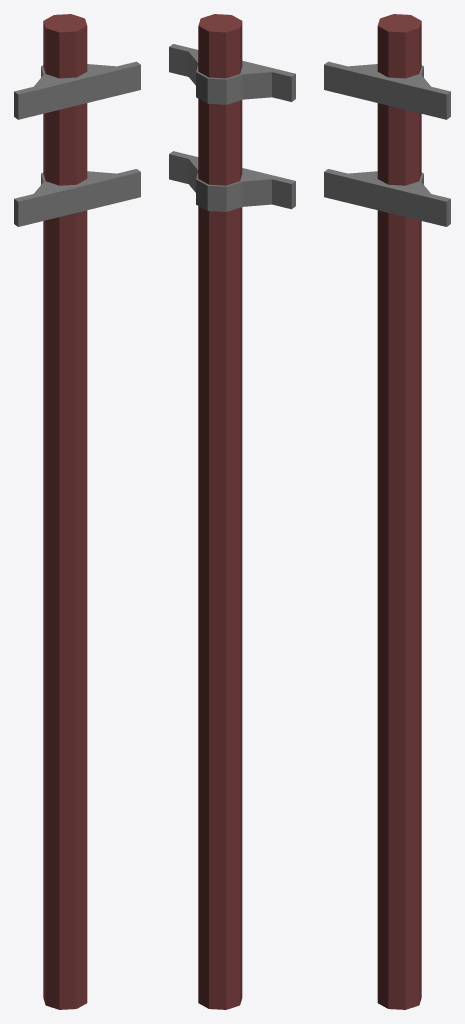
The model's file is SM_signpole.fbx.
3 views of the same model, side by side, from view 1: azimuth 30°, elevation 25°; view 2: azimuth 150°, elevation 25°; view 3: azimuth 330°, elevation 25° (orthographic).
Visible parts, largest first — view 1: SM_signpole; view 2: SM_signpole; view 3: SM_signpole.
Part boxes in pixels (left/top/right/bottom): SM_signpole: left=14, top=14, right=140, bottom=1009; SM_signpole: left=169, top=14, right=295, bottom=1009; SM_signpole: left=324, top=14, right=450, bottom=1009.
Bounding box in the file's own units: 32.59 × 248 × 12.38.
